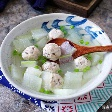dongguawanzi: (11, 23, 99, 99)
